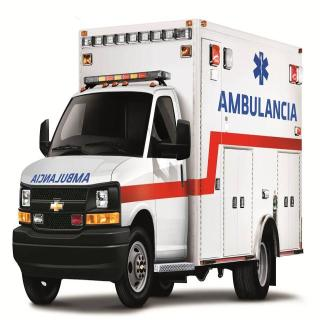Ambulance: (11, 3, 311, 313)
